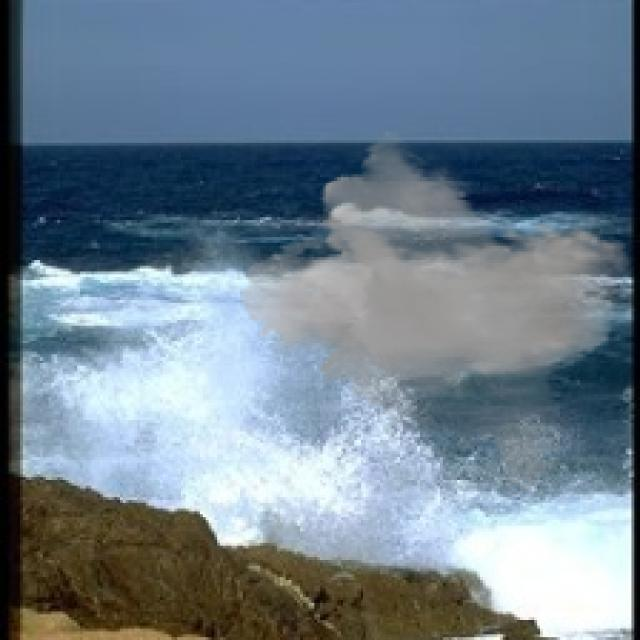smoke: (240, 129, 631, 494)
